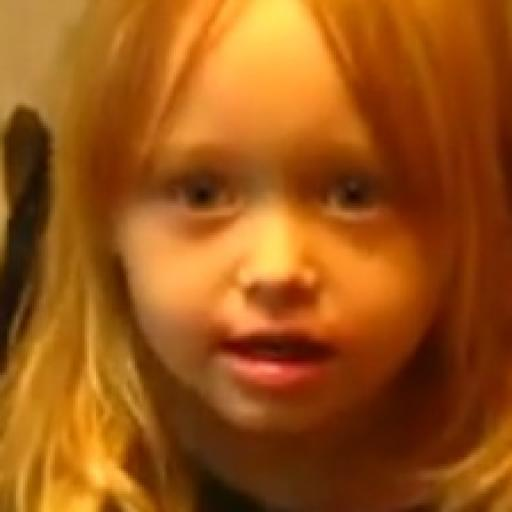Autism: (55, 0, 512, 489)
